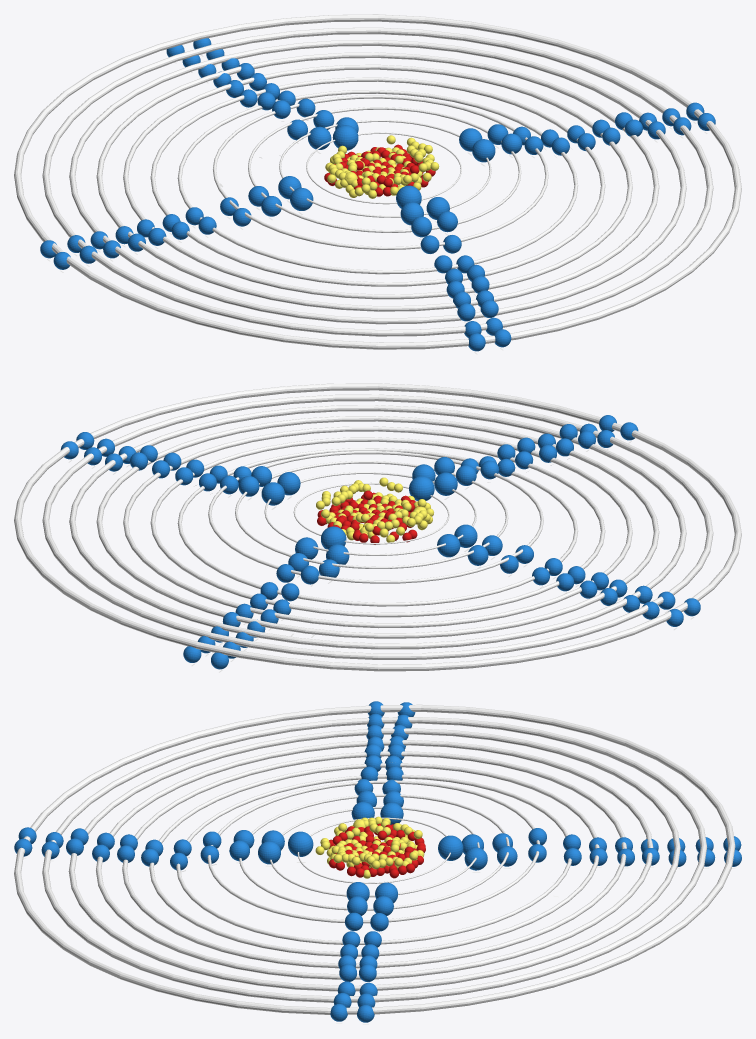
The picture shows the model from 3 angles, top to bottom: view 1: azimuth 30°, elevation 25°; view 2: azimuth 150°, elevation 25°; view 3: azimuth 270°, elevation 25°; orthographic projection.
Visible parts, largest first — view 1: Torus.011, Torus.010, Torus.009, Torus.008, Torus.007, Torus.006, Torus.005, Torus.004, Torus.003, Torus.002, Torus.001; view 2: Torus.011, Torus.010, Torus.009, Torus.008, Torus.007, Torus.006, Torus.005, Torus.004, Torus.003, Torus.002, Torus.001, g.001; view 3: Torus.011, Torus.010, Torus.009, Torus.008, Torus.007, Torus.006, Torus.005, Torus.004, Torus.003, Torus.002, Torus.001.
Boxes of the visible parts, x1=… form: Torus.011: x1=14, y1=14, x2=741, y2=349; Torus.010: x1=42, y1=27, x2=713, y2=336; Torus.009: x1=69, y1=40, x2=686, y2=324; Torus.008: x1=96, y1=52, x2=659, y2=311; Torus.007: x1=123, y1=64, x2=632, y2=299; Torus.006: x1=150, y1=77, x2=605, y2=286; Torus.005: x1=177, y1=90, x2=578, y2=274; Torus.004: x1=213, y1=95, x2=548, y2=249; Torus.003: x1=248, y1=107, x2=521, y2=232; Torus.002: x1=279, y1=120, x2=491, y2=217; Torus.001: x1=306, y1=132, x2=461, y2=204; Torus.011: x1=14, y1=383, x2=741, y2=671; Torus.010: x1=42, y1=394, x2=713, y2=659; Torus.009: x1=69, y1=405, x2=686, y2=649; Torus.008: x1=96, y1=416, x2=659, y2=638; Torus.007: x1=123, y1=426, x2=632, y2=628; Torus.006: x1=150, y1=437, x2=605, y2=617; Torus.005: x1=177, y1=448, x2=578, y2=606; Torus.004: x1=208, y1=451, x2=543, y2=583; Torus.003: x1=235, y1=461, x2=508, y2=568; Torus.002: x1=264, y1=472, x2=476, y2=555; Torus.001: x1=293, y1=482, x2=449, y2=544; g.001: x1=409, y1=476, x2=434, y2=500; Torus.011: x1=14, y1=704, x2=735, y2=1014; Torus.010: x1=42, y1=717, x2=707, y2=1002; Torus.009: x1=68, y1=728, x2=680, y2=991; Torus.008: x1=96, y1=740, x2=653, y2=979; Torus.007: x1=122, y1=751, x2=626, y2=968; Torus.006: x1=149, y1=763, x2=599, y2=956; Torus.005: x1=176, y1=774, x2=571, y2=944; Torus.004: x1=207, y1=780, x2=539, y2=923; Torus.003: x1=239, y1=794, x2=509, y2=910; Torus.002: x1=270, y1=806, x2=479, y2=897; Torus.001: x1=297, y1=817, x2=450, y2=883.
Size of the model in its own units: 28.6 by 2.85 by 28.28.
